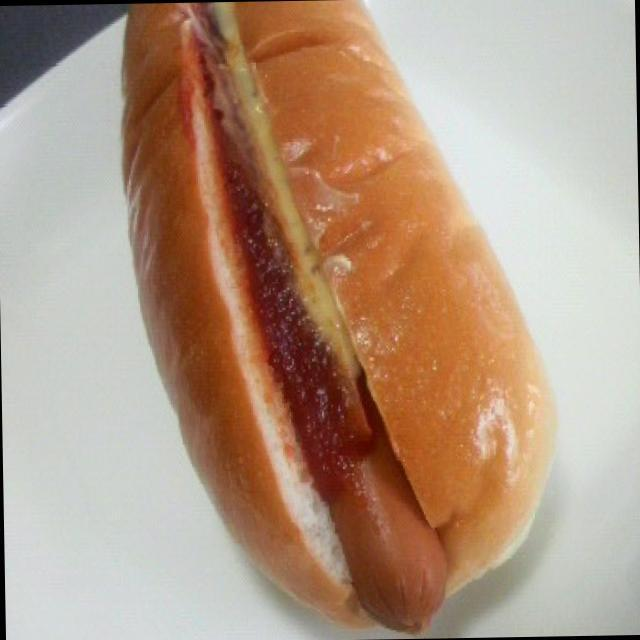Hot Dog: (103, 0, 572, 636)
